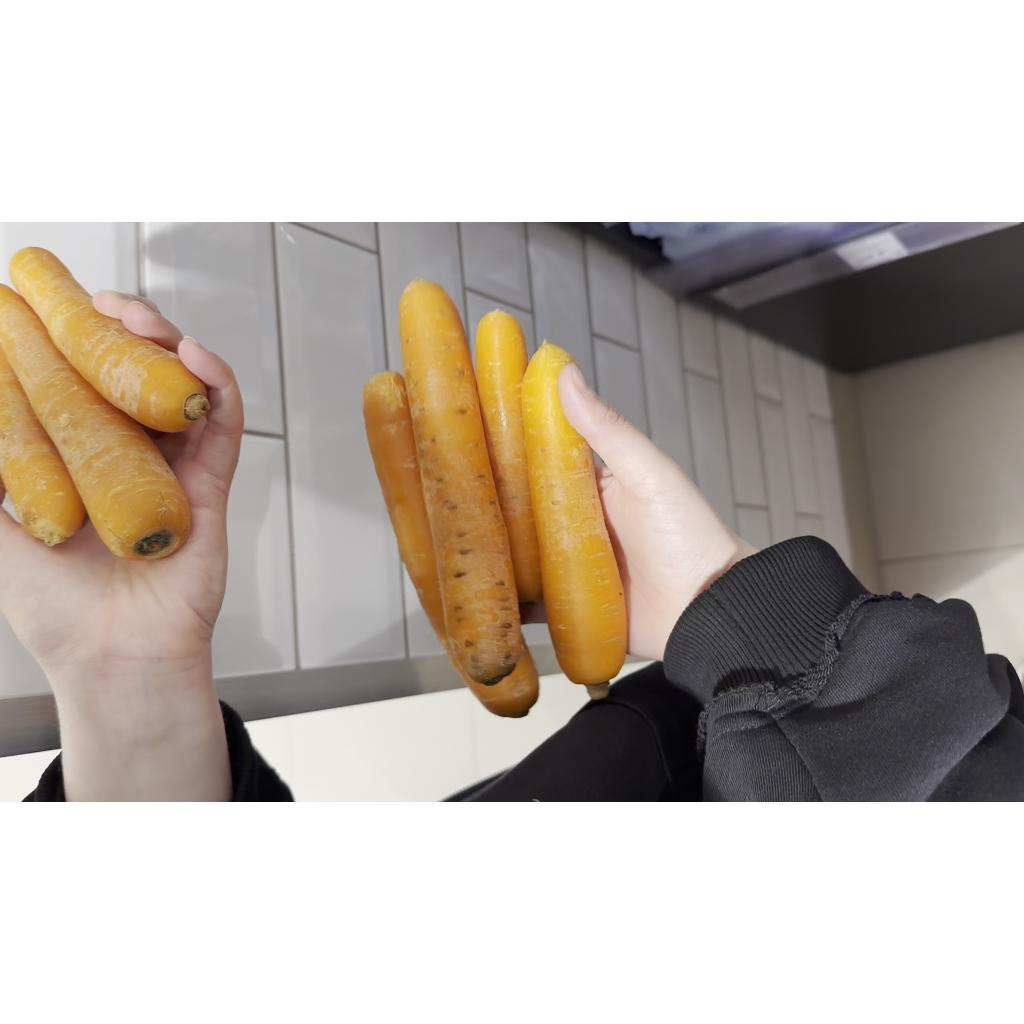carrot: (0, 284, 190, 560), (400, 278, 526, 686), (10, 248, 210, 432), (522, 342, 628, 686), (364, 370, 448, 650), (476, 310, 542, 602), (0, 348, 86, 546)
